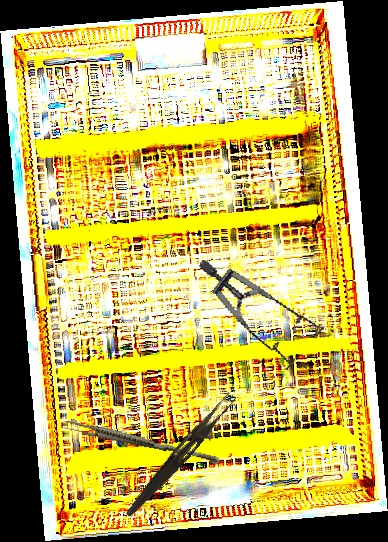Dressing Forceps: (123, 388, 238, 523)
Speculum: (197, 230, 334, 386)
Tissue Forceps: (63, 418, 222, 466)
